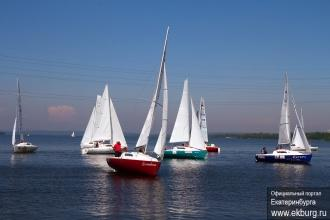fanchuan: (109, 22, 169, 175), (252, 73, 313, 166), (78, 83, 131, 156), (165, 78, 205, 162), (12, 76, 38, 153), (197, 97, 220, 151), (291, 108, 320, 148), (69, 126, 77, 140)
